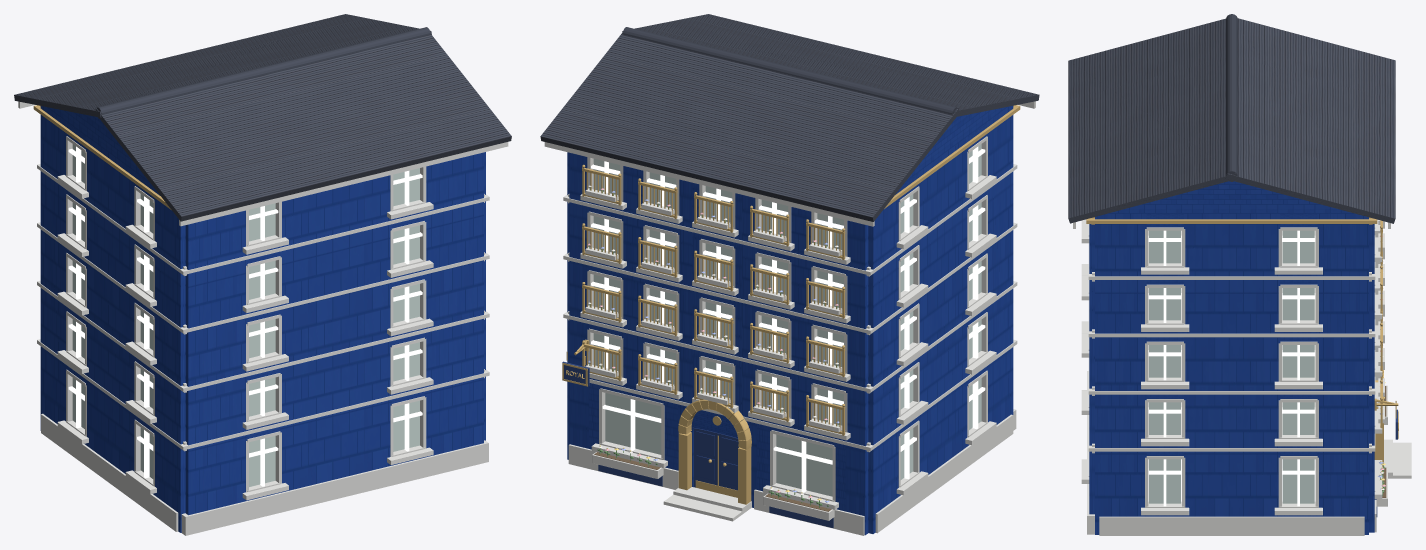
File: gedung-g03-blender-v2.glb
3 renders of one model, left to right at view 1: azimuth 30°, elevation 25°; view 2: azimuth 150°, elevation 25°; view 3: azimuth 270°, elevation 25°, orthographic. The views are drawn at different scales.
Parts seen in each view (by area): view 1: BK_W0, AtapS, C1_L1, WB_-2.2_0.8_Glass, WB_-2.2_0.8_Mull, Ridge, AR_V00; view 2: BK_W0, AtapS, C1_L1, AR_V00, WB_-2.2_0.8_Glass, WB_-2.2_0.8_Mull, WF_Shop-2.6_Glass, PD_Arch, Ridge; view 3: BK_W0, AtapS, C1_L1, WB_-2.2_0.8_Glass, WB_-2.2_0.8_Mull, AR_V00, Ridge.
Boxes of the visible parts, x1,y1,x2,y2 form: BK_W0: [40, 106, 485, 532]; AtapS: [14, 14, 511, 221]; C1_L1: [18, 101, 508, 535]; WB_-2.2_0.8_Glass: [72, 144, 419, 486]; WB_-2.2_0.8_Mull: [68, 146, 422, 486]; Ridge: [96, 27, 430, 118]; AR_V00: [33, 105, 171, 209]; BK_W0: [567, 106, 1013, 535]; AtapS: [540, 14, 1039, 221]; C1_L1: [544, 101, 1035, 535]; AR_V00: [562, 105, 1020, 504]; WB_-2.2_0.8_Glass: [593, 144, 981, 479]; WB_-2.2_0.8_Mull: [591, 146, 985, 492]; WF_Shop-2.6_Glass: [605, 393, 832, 496]; PD_Arch: [562, 361, 833, 527]; Ridge: [622, 27, 957, 114]; BK_W0: [1089, 181, 1374, 534]; AtapS: [1068, 15, 1395, 223]; C1_L1: [1073, 219, 1411, 535]; WB_-2.2_0.8_Glass: [1149, 230, 1314, 503]; WB_-2.2_0.8_Mull: [1148, 230, 1315, 506]; AR_V00: [1086, 217, 1398, 467]; Ridge: [1226, 14, 1237, 181].
Bounding box in the file's own units: 10.1 × 10.98 × 9.25.
15 materials, 2 textured.
